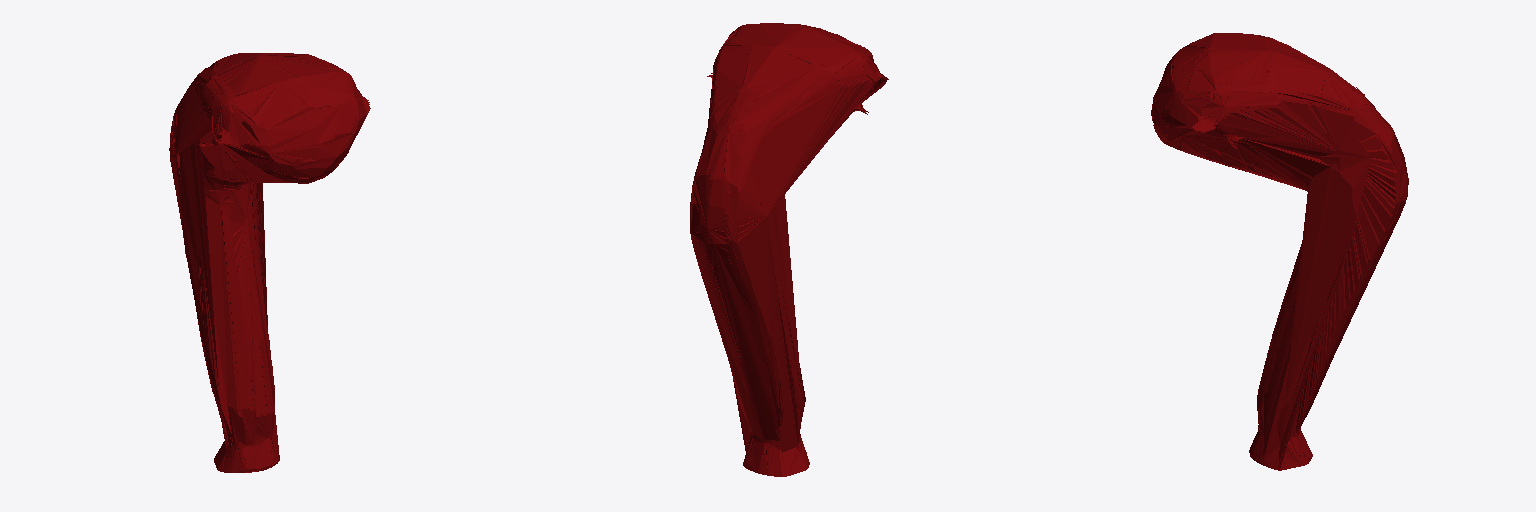
The model's file is meshuteromedioreducido.obj.
3 views of the same model, side by side, from view 1: azimuth 30°, elevation 25°; view 2: azimuth 150°, elevation 25°; view 3: azimuth 270°, elevation 25° (orthographic).
Parts seen in each view (by area): view 1: Uterus-Whole.001; view 2: Uterus-Whole.001; view 3: Uterus-Whole.001.
Part boxes in pixels (x1,y1,x2,y2): Uterus-Whole.001: (169, 53, 370, 472); Uterus-Whole.001: (690, 23, 888, 476); Uterus-Whole.001: (1151, 33, 1408, 470).
Bounding box in the file's own units: 2.05 × 4.99 × 2.84.